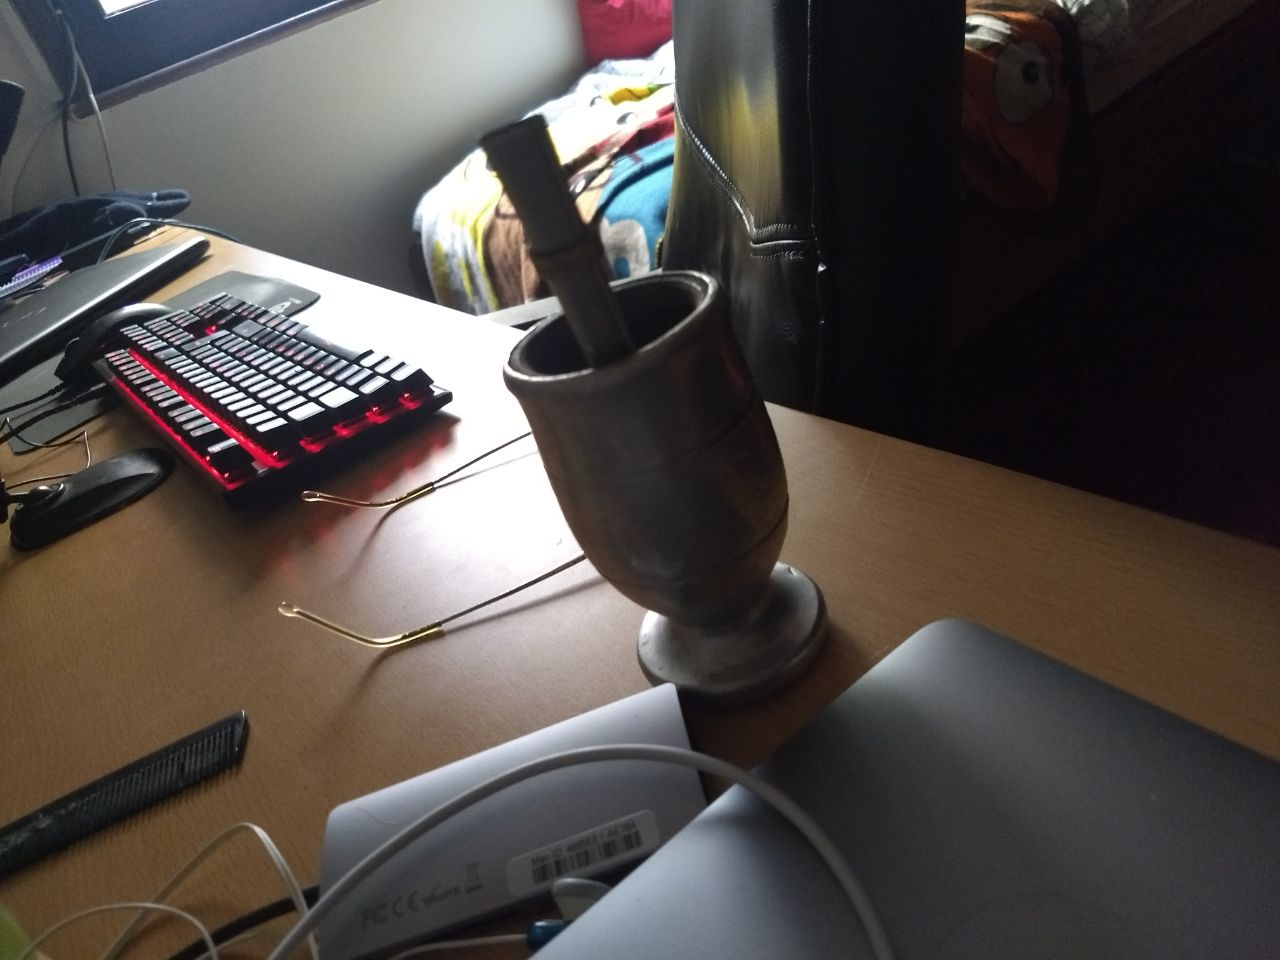mate: (473, 114, 835, 698)
metal: (471, 112, 833, 696)
